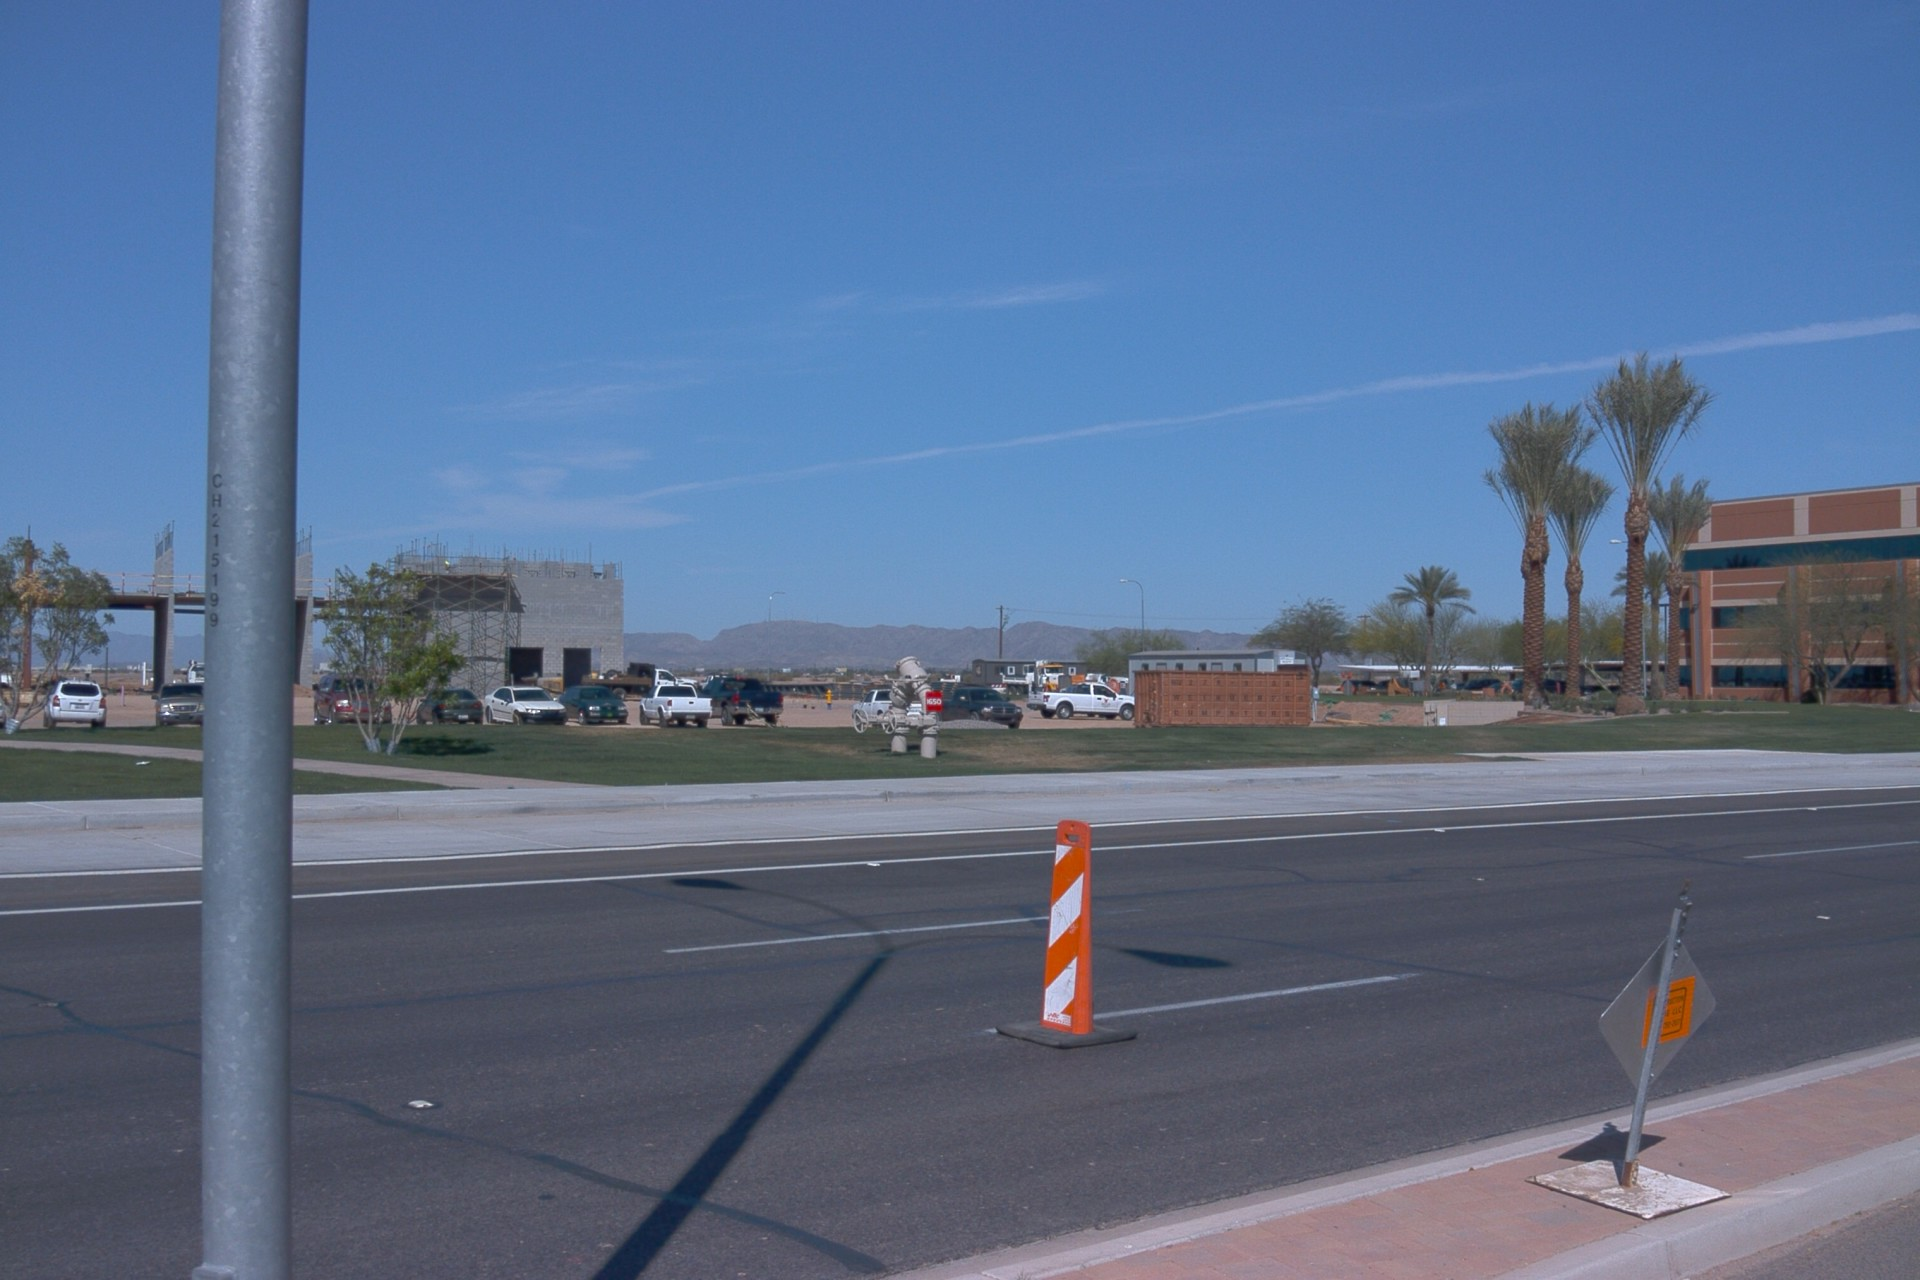TYPE_PEDESTRIAN: (1434, 676, 1447, 692), (442, 555, 453, 573), (1448, 680, 1459, 693)
TYPE_VEHICLE: (695, 670, 787, 727), (581, 662, 699, 705), (1023, 677, 1133, 722), (312, 669, 393, 728), (932, 683, 1025, 729), (479, 682, 565, 727), (639, 682, 715, 730), (40, 677, 108, 730), (415, 682, 489, 730), (562, 682, 634, 727), (852, 684, 921, 728), (146, 681, 204, 732), (998, 662, 1066, 703), (184, 657, 207, 697), (1339, 684, 1382, 700), (1461, 680, 1507, 693), (1542, 681, 1573, 700), (696, 676, 730, 693), (0, 685, 11, 730), (1373, 684, 1391, 698)
